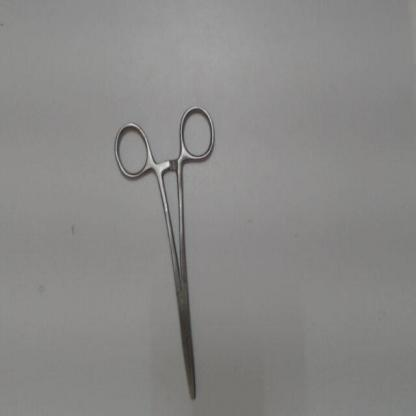Mayo Needle Holder: (107, 100, 223, 409)
